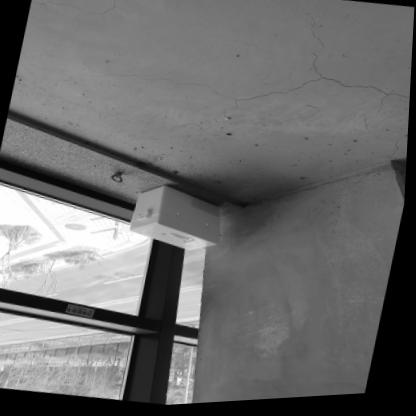DDL: (129, 178, 230, 258)
